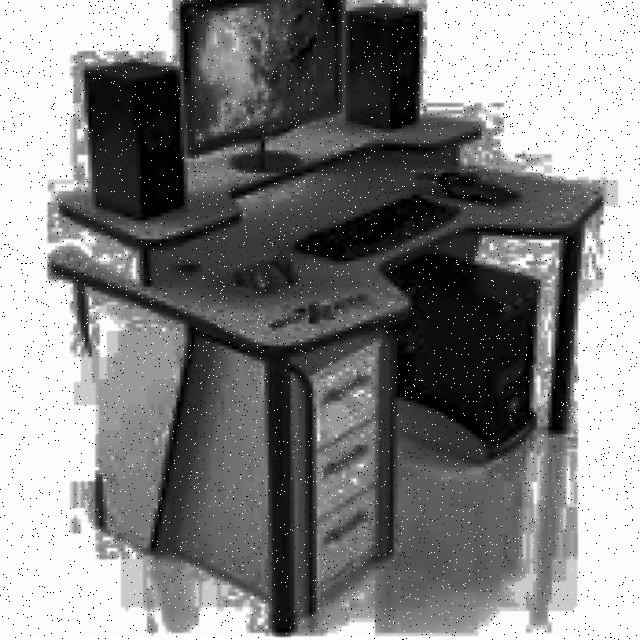paper: (67, 36, 197, 240), (341, 8, 458, 141)
table: (37, 154, 636, 640)
